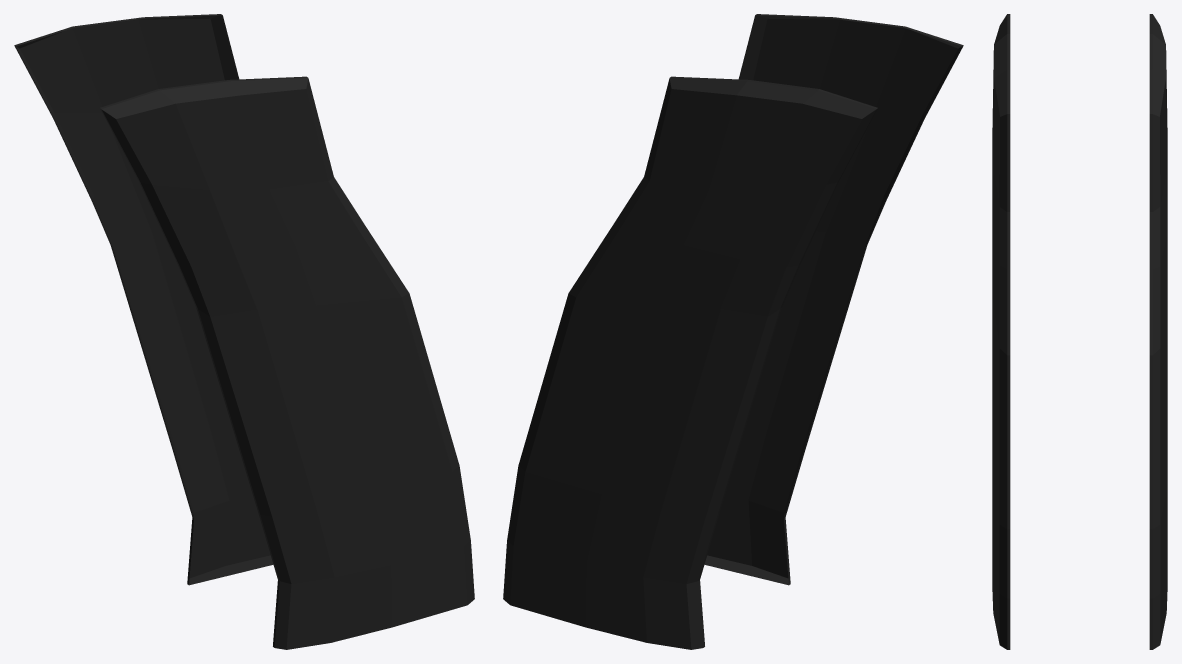
File: ZC57_Attachment_HandleV1.glb
The picture shows the model from 3 angles, left to right: view 1: azimuth 30°, elevation 25°; view 2: azimuth 150°, elevation 25°; view 3: azimuth 270°, elevation 25°; orthographic projection. The views are drawn at different scales.
Visible parts, largest first — view 1: ZC57_Attachment_HandleV1; view 2: ZC57_Attachment_HandleV1; view 3: ZC57_Attachment_HandleV1.
Boxes of the visible parts, bbox=[...] form: ZC57_Attachment_HandleV1: bbox=[14, 14, 474, 649]; ZC57_Attachment_HandleV1: bbox=[503, 14, 963, 649]; ZC57_Attachment_HandleV1: bbox=[992, 14, 1167, 649].
Bounding box in the file's own units: 0.0605 × 0.0906 × 0.0295.
Materials: 1 (1 with a texture image).
